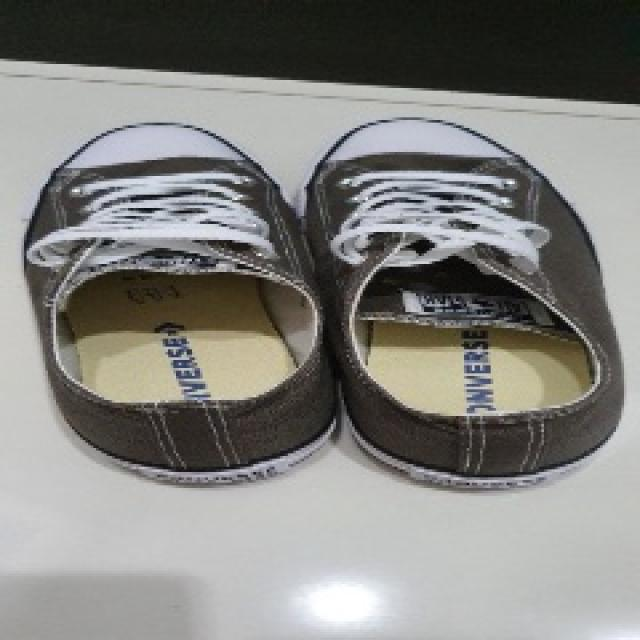shoes: (304, 98, 626, 506), (40, 104, 330, 497)
